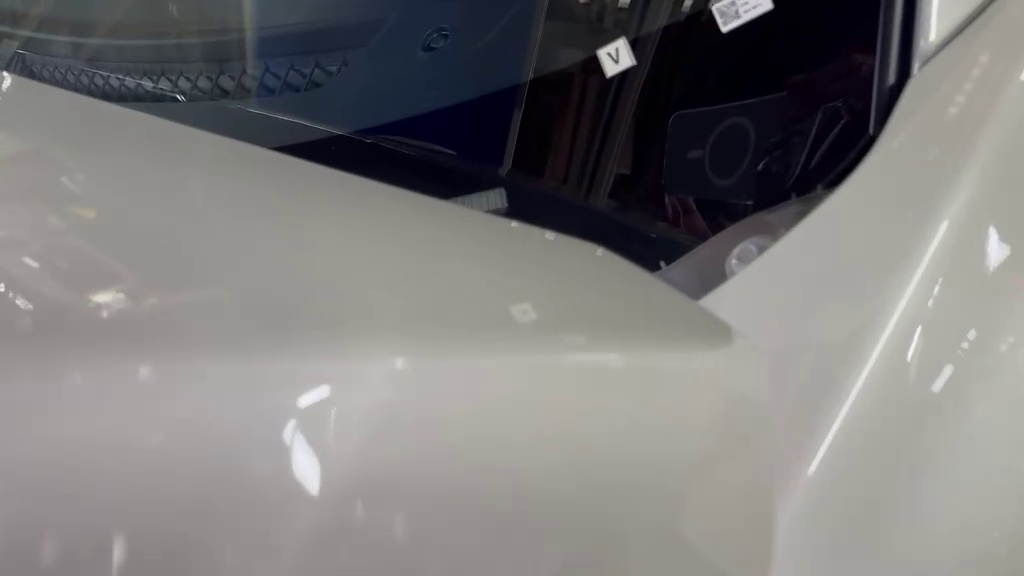hinge: (419, 161, 540, 255)
